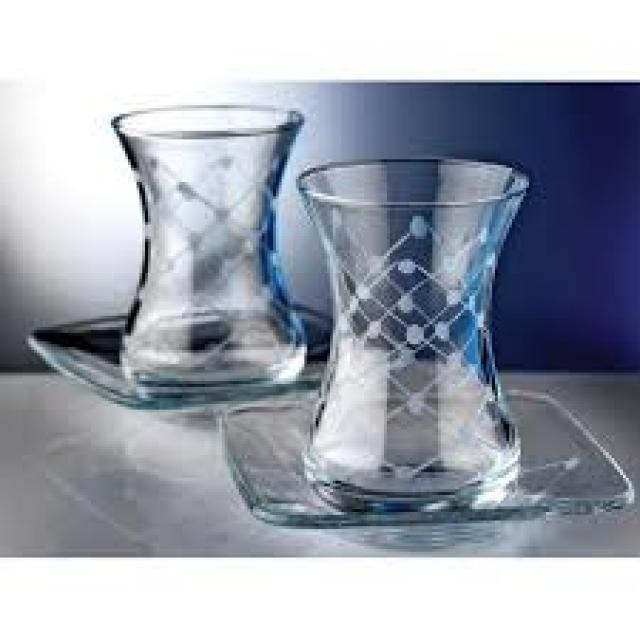Dry Waste: (224, 156, 636, 530)
